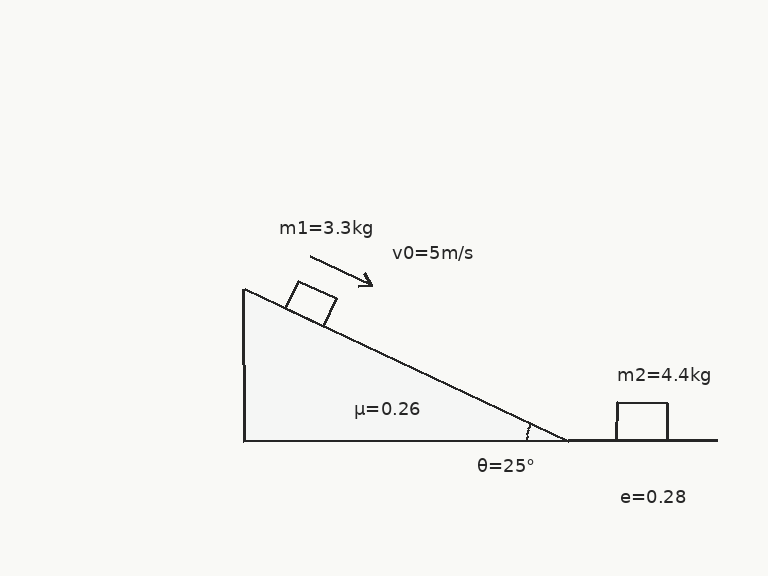block: (283, 279, 338, 328), (614, 401, 670, 442)
ramp: (241, 287, 569, 442)
